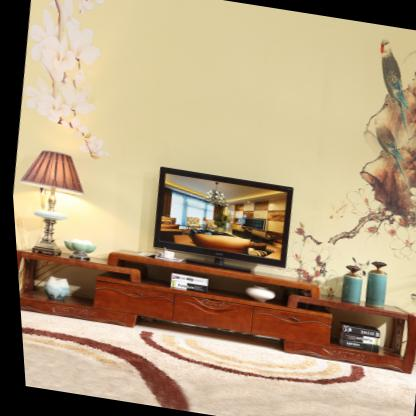TV stand: (12, 228, 416, 372)
